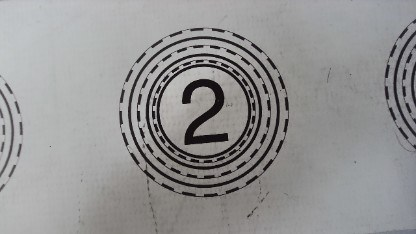2r: (114, 30, 287, 196)
